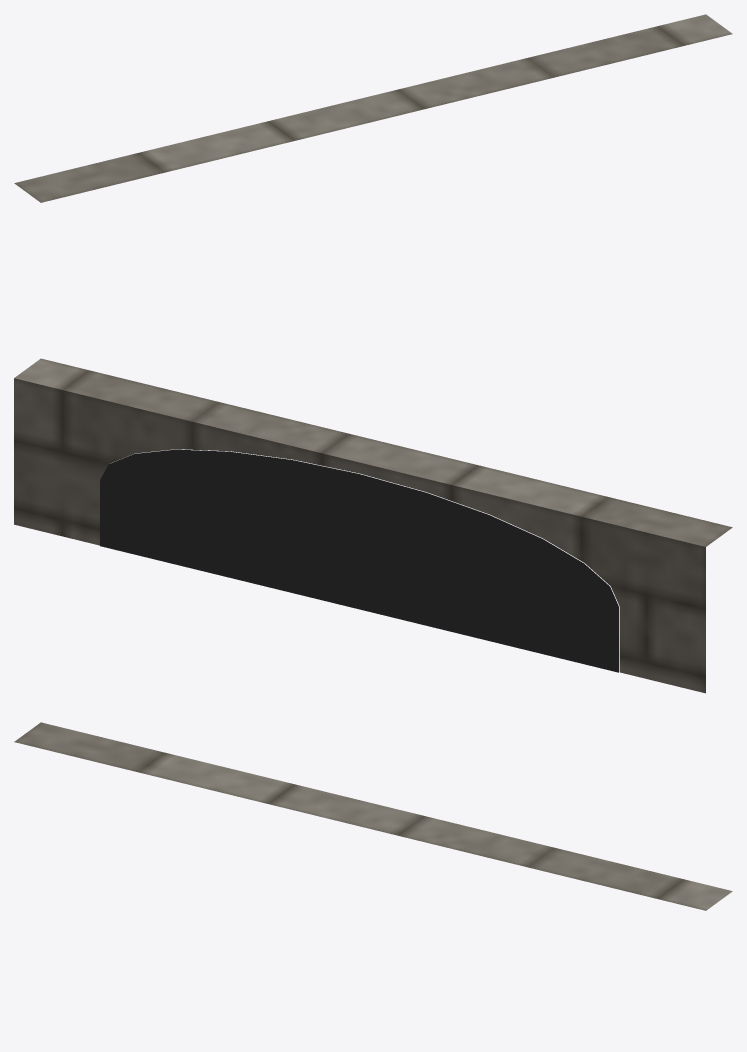
The model's file is tunel_silnicni_celo.glb.
3 views of the same model, one above another, from view 1: azimuth 30°, elevation 25°; view 2: azimuth 150°, elevation 25°; view 3: azimuth 330°, elevation 25° (orthographic).
Parts seen in each view (by area): view 1: tunel_silnicni_celo; view 2: tunel_silnicni_celo; view 3: tunel_silnicni_celo.
Boxes of the visible parts, box(x1,y1,x2,y2) form: tunel_silnicni_celo: box(14, 14, 732, 202); tunel_silnicni_celo: box(14, 358, 732, 693); tunel_silnicni_celo: box(14, 722, 732, 910).
Size of the model in its own units: 14.84 by 3 by 1.02.
2 materials, 1 textured.
